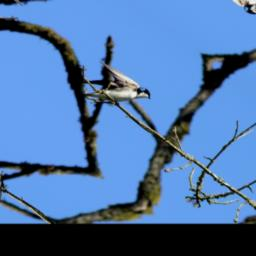Swallow: (65, 57, 157, 125)
